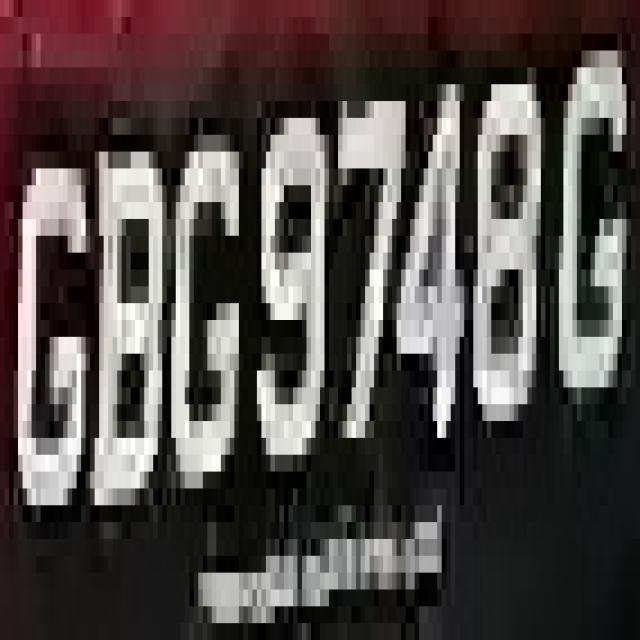4: (401, 17, 478, 471)
7: (329, 51, 401, 488)
8: (464, 67, 559, 455)
9: (252, 101, 329, 488)
B: (76, 118, 176, 505)
G: (546, 51, 636, 472), (9, 118, 95, 556), (162, 135, 252, 522), (564, 33, 636, 454)
